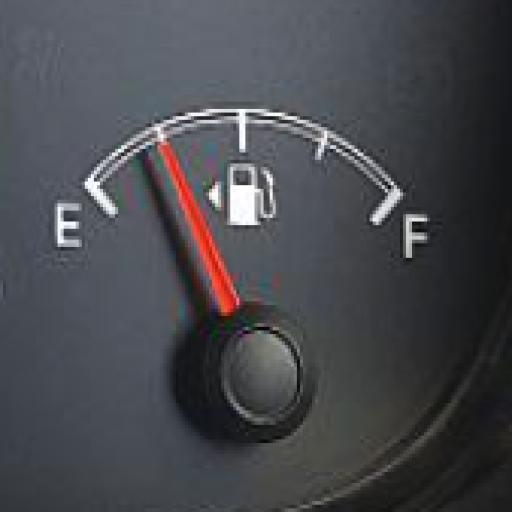empty: (54, 197, 83, 257)
fuel_icon: (224, 158, 279, 234)
full: (401, 210, 436, 261)
guage_area: (41, 102, 447, 486)
needle_center: (182, 281, 319, 456)
needle_tip: (154, 136, 190, 196)
